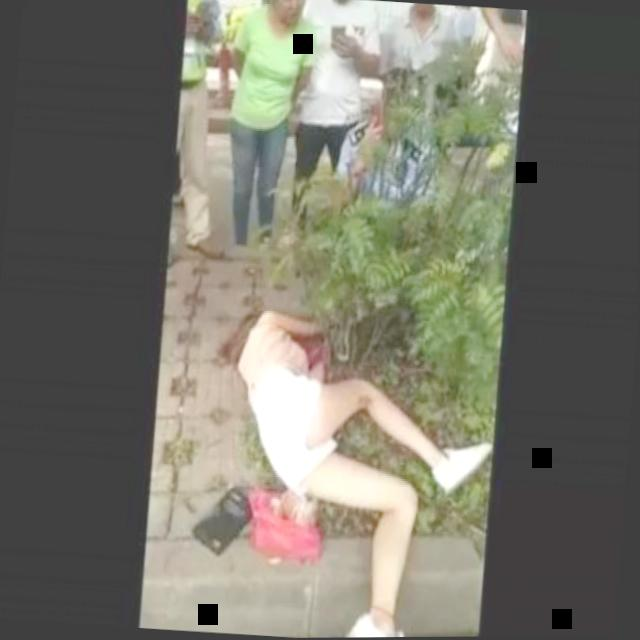Fall-Detected: (190, 283, 508, 639)
